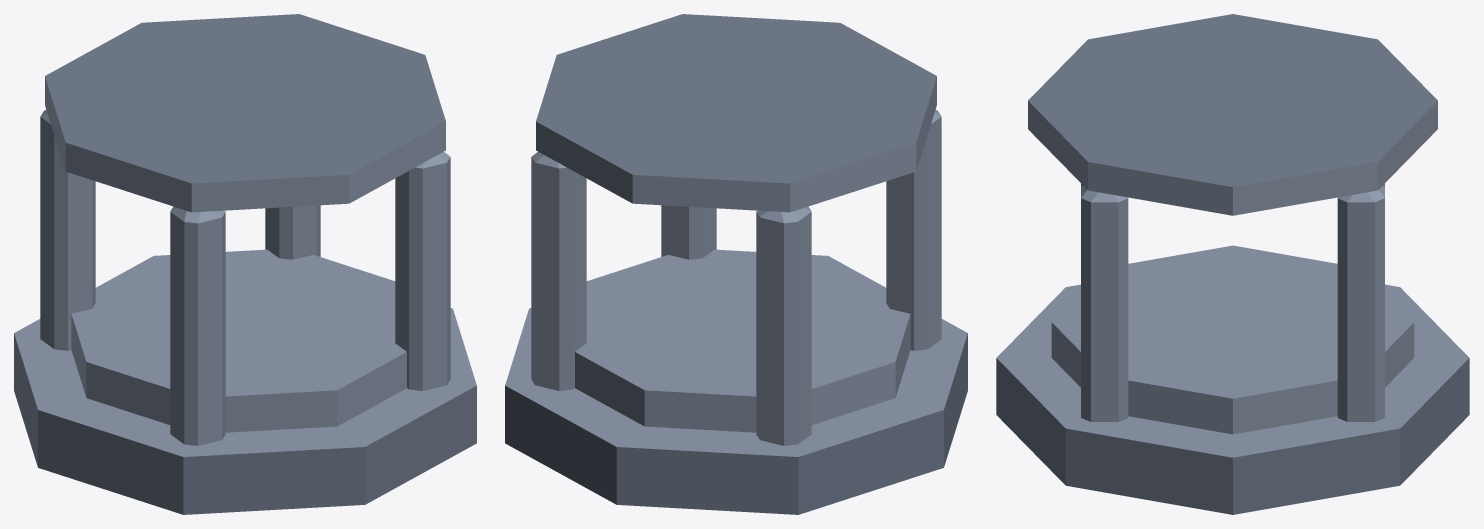
The model's file is Reactor.glb.
3 renders of one model, left to right at view 1: azimuth 30°, elevation 25°; view 2: azimuth 150°, elevation 25°; view 3: azimuth 270°, elevation 25°, orthographic.
Parts seen in each view (by area): view 1: Reactor; view 2: Reactor; view 3: Reactor.
Part boxes in pixels (box(x1,y1,x2,y2)): Reactor: box(14, 14, 476, 514); Reactor: box(505, 14, 967, 514); Reactor: box(996, 14, 1469, 514).
Bounding box in the file's own units: 12 × 8.8 × 12.
